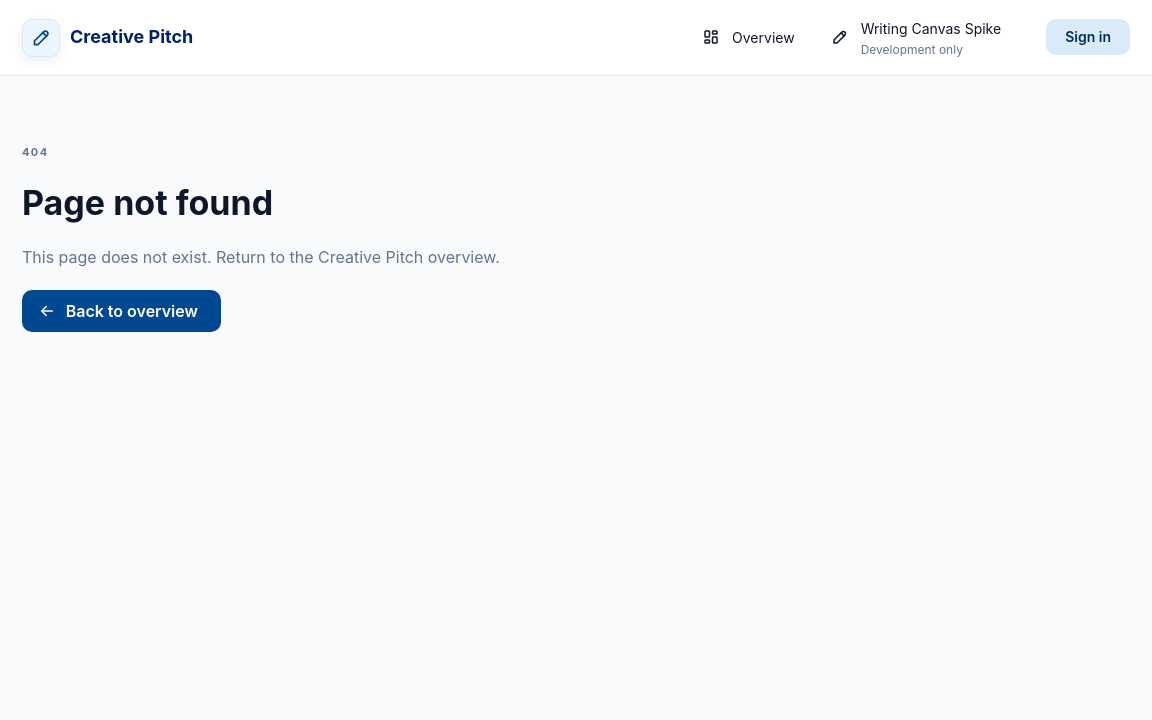
it: handles an unknown route and navigates back to the overview
This screenshot has width=1152, height=720.
Expected: the heading "Page not found" is shown, [22,181,273,225]
Click the link "Back to overview" at {"x": 122, "y": 311}, box [22,290,221,332]
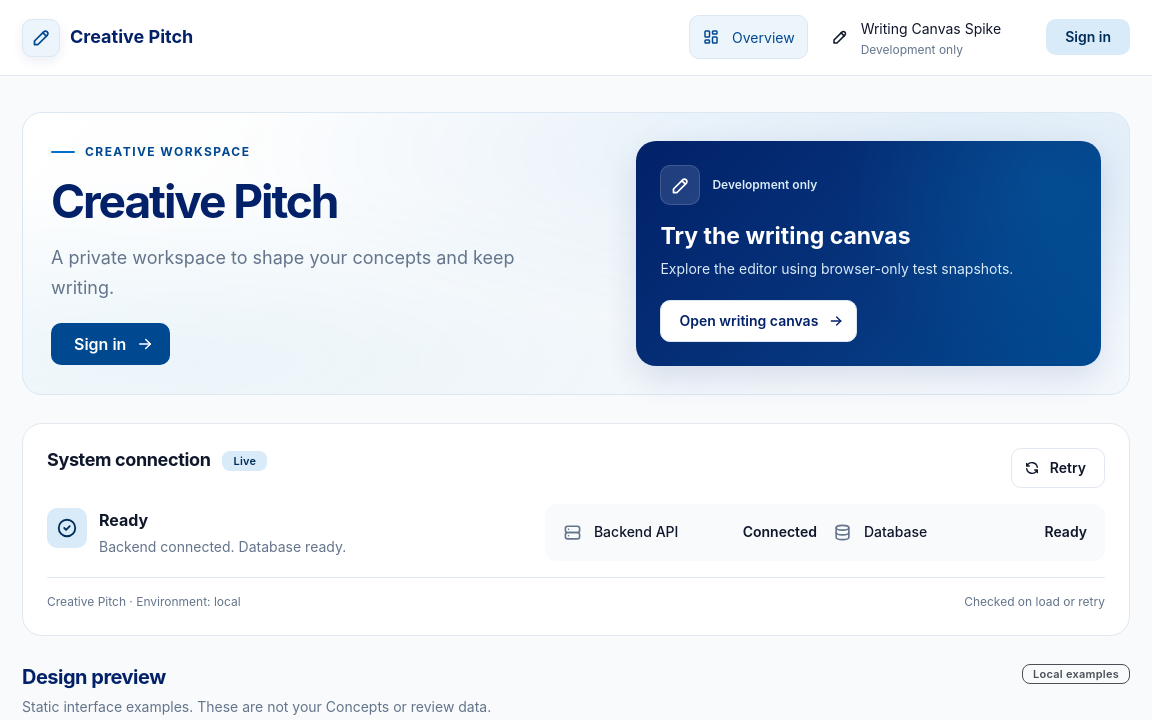
Result: the heading "Creative Pitch" is shown at [51,174,337,230]
